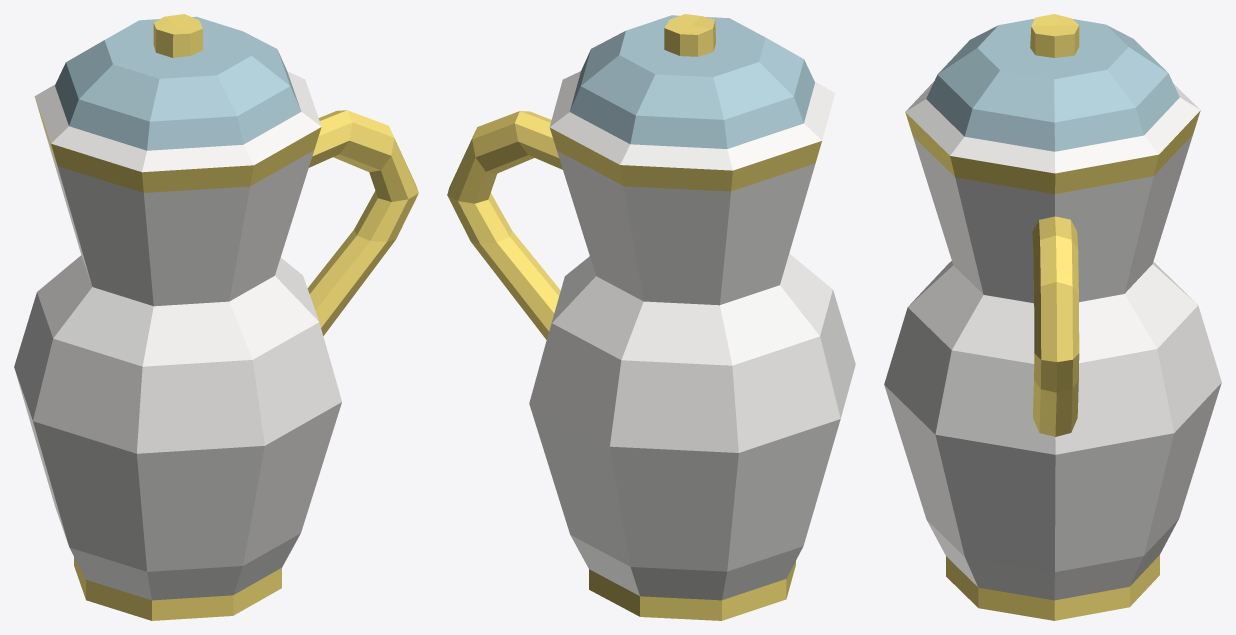
File: Vase_5.fbx
3 renders of one model, left to right at view 1: azimuth 30°, elevation 25°; view 2: azimuth 150°, elevation 25°; view 3: azimuth 270°, elevation 25°, orthographic.
Visible parts, largest first — view 1: Vase_5; view 2: Vase_5; view 3: Vase_5.
Part boxes in pixels (box(x1,y1,x2,y2)): Vase_5: box(14, 14, 418, 620); Vase_5: box(447, 14, 855, 620); Vase_5: box(884, 14, 1221, 620).
Size of the model in its own units: 50.41 by 38.18 by 68.79.
